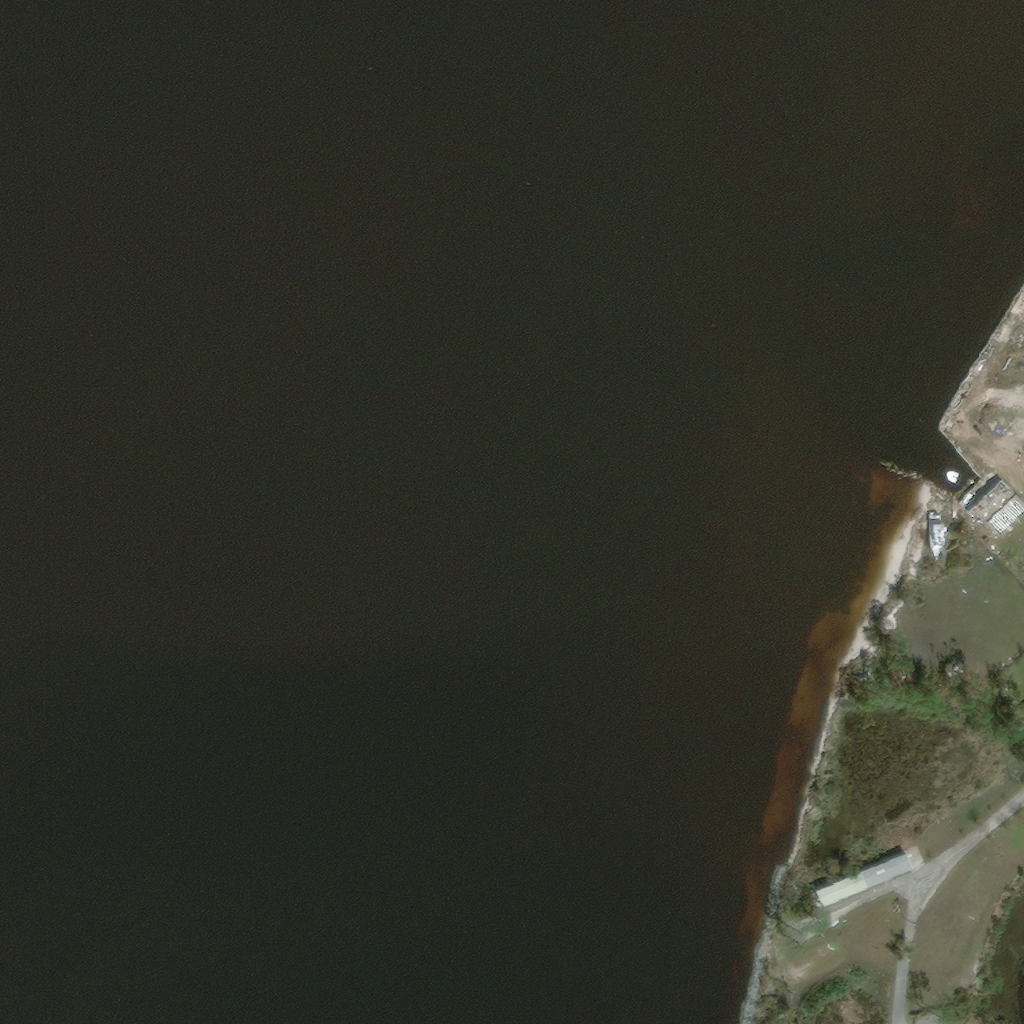minor_damage: (971, 479, 1013, 519)
no_damage: (813, 852, 916, 910)
